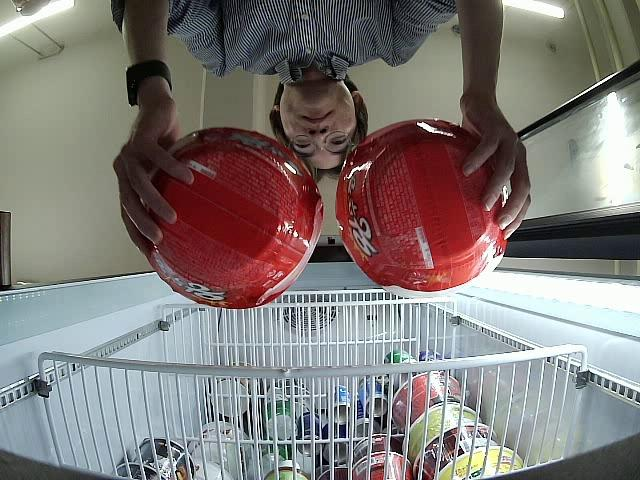00_hand: (112, 96, 195, 258), (458, 93, 531, 244)
10_wangTtukkeong: (140, 128, 320, 305), (338, 119, 507, 300)
